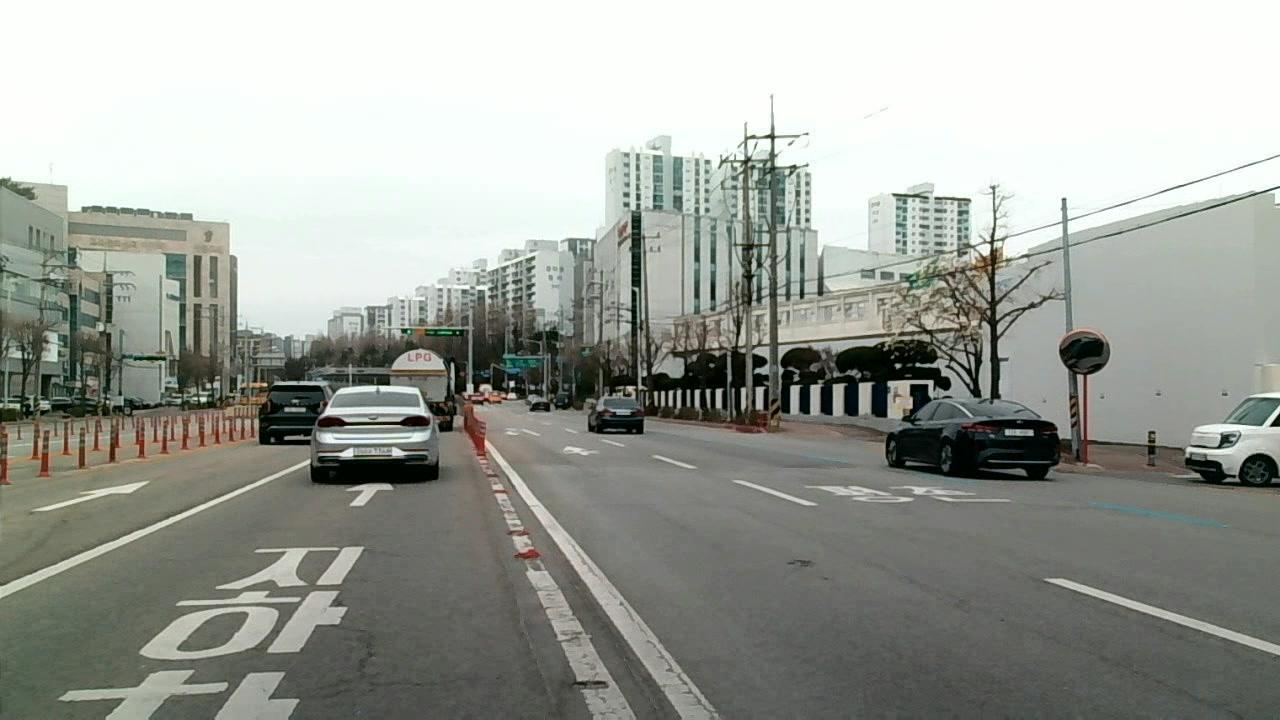stone: (515, 545, 544, 564), (508, 529, 531, 537), (493, 488, 508, 494), (485, 472, 498, 478)
vcrack: (1079, 641, 1219, 719), (322, 614, 397, 720), (562, 531, 632, 629), (655, 638, 716, 720), (964, 604, 1063, 645)
